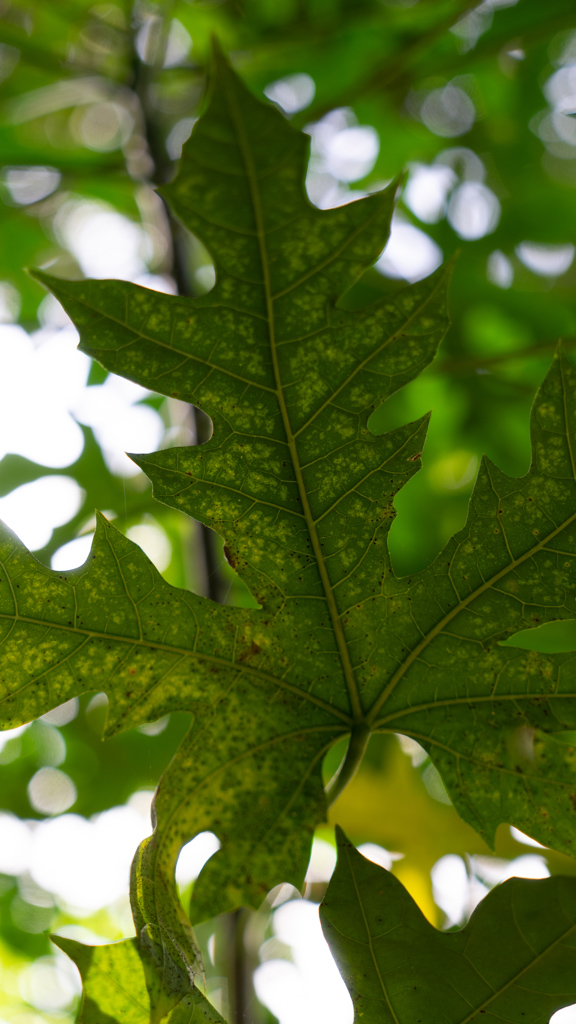Alternaria brassicicola: (2, 133, 570, 893)
